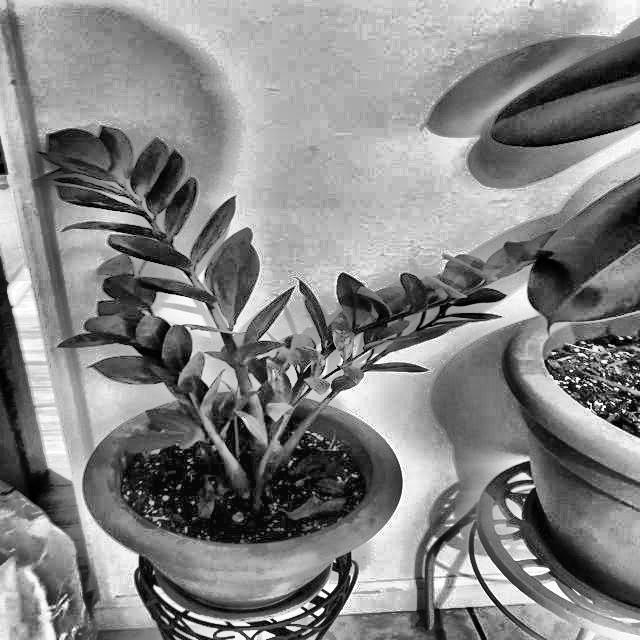plants: (38, 113, 388, 504)
